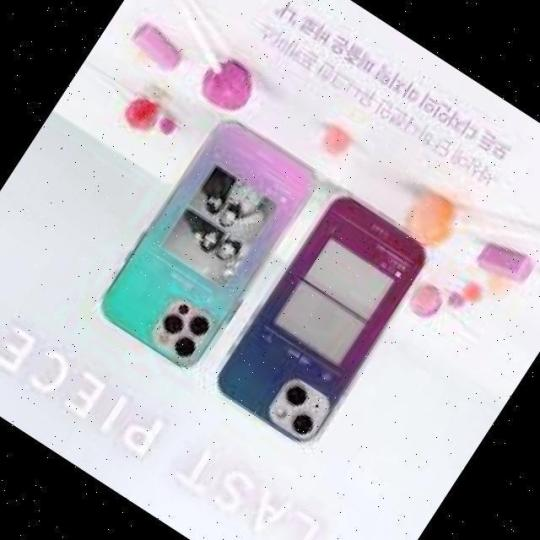phone: (94, 120, 318, 371), (212, 192, 429, 450)
